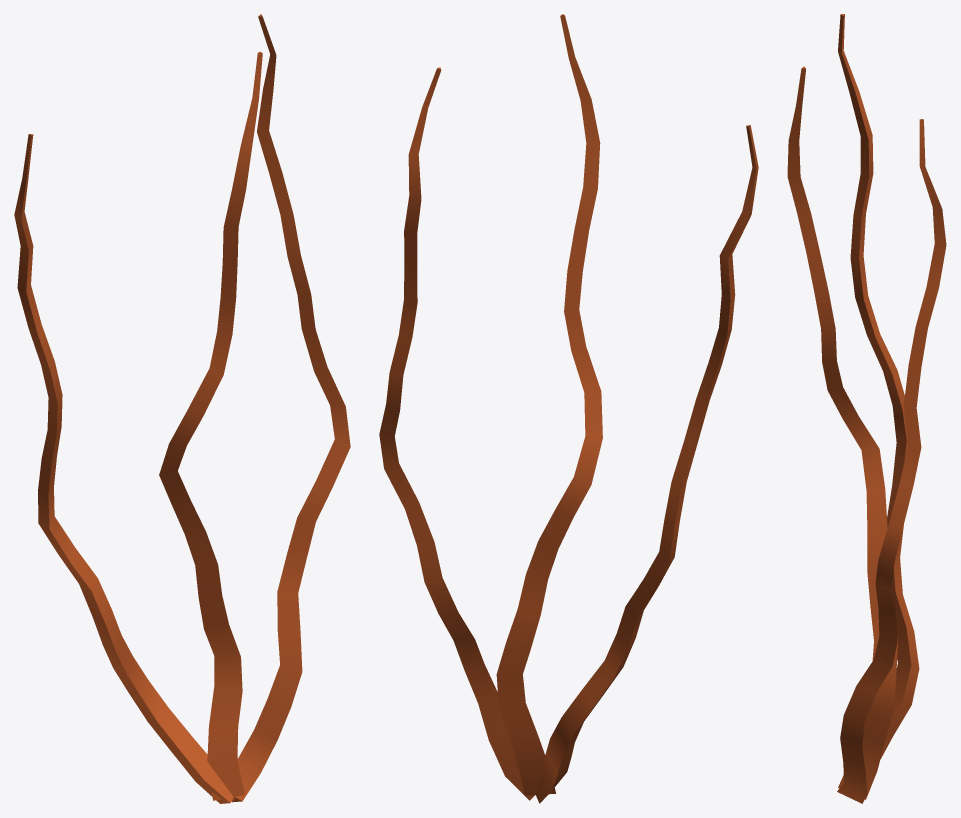
The model's file is coral_seagrass_D_raqam_mini.fbx.
The picture shows the model from 3 angles, left to right: view 1: azimuth 30°, elevation 25°; view 2: azimuth 150°, elevation 25°; view 3: azimuth 270°, elevation 25°; orthographic projection. The views are drawn at different scales.
Parts seen in each view (by area): view 1: coral_seagrass_D_raqam_mini; view 2: coral_seagrass_D_raqam_mini; view 3: coral_seagrass_D_raqam_mini.
Part boxes in pixels (box(x1,y1,x2,y2)): coral_seagrass_D_raqam_mini: box(14, 14, 350, 803); coral_seagrass_D_raqam_mini: box(379, 14, 758, 803); coral_seagrass_D_raqam_mini: box(787, 14, 946, 803).
Size of the model in its own units: 61.68 by 130 by 25.48.
